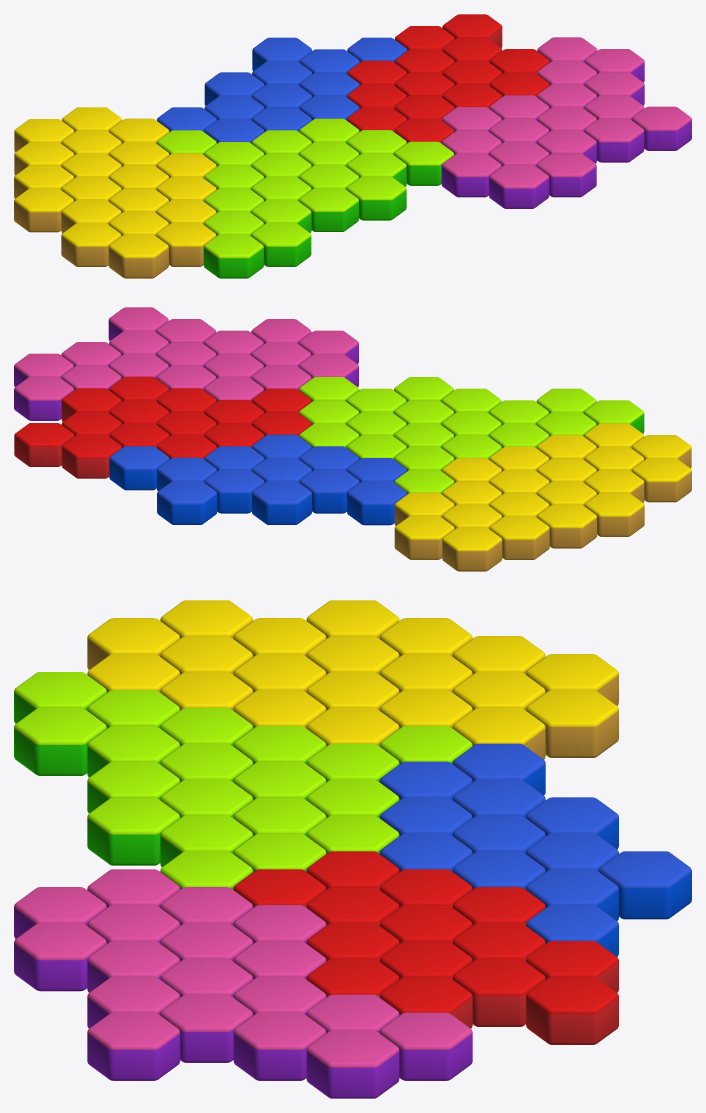
Rendered from Hexagons.fbx.
The picture shows the model from 3 angles, top to bottom: view 1: azimuth 30°, elevation 25°; view 2: azimuth 150°, elevation 25°; view 3: azimuth 270°, elevation 25°; orthographic projection. The views are drawn at different scales.
Parts seen in each view (by area): view 1: Cylinder.121, Cylinder.166, Cylinder.105, Cylinder.099, Cylinder.167, Cylinder.096, Cylinder.106, Cylinder.100, Cylinder.117, Cylinder.160, Cylinder.123, Cylinder.159 (+71 smaller); view 2: Cylinder.001, Cylinder.142, Cylinder.088, Cylinder.087, Cylinder.107, Cylinder.141, Cylinder.117, Cylinder.086, Cylinder.108, Cylinder.146, Cylinder.123, Cylinder.126 (+71 smaller); view 3: Cylinder.095, Cylinder.100, Cylinder.126, Cylinder.086, Cylinder.167, Cylinder.106, Cylinder.160, Cylinder.093, Cylinder.142, Cylinder.107, Cylinder.104, Cylinder.133 (+71 smaller).
Boxes of the visible parts, box(x1,y1,x2,y2) form: Cylinder.121: box(108, 234, 168, 278); Cylinder.166: box(203, 234, 263, 278); Cylinder.105: box(489, 164, 549, 208); Cylinder.099: box(584, 118, 644, 162); Cylinder.167: box(251, 222, 311, 266); Cylinder.096: box(441, 153, 501, 197); Cylinder.106: box(536, 153, 596, 197); Cylinder.100: box(632, 106, 691, 150); Cylinder.117: box(14, 188, 73, 232); Cylinder.160: box(346, 176, 406, 220); Cylinder.123: box(61, 223, 121, 266); Cylinder.159: box(299, 188, 358, 231); Cylinder.001: box(442, 527, 502, 571); Cylinder.142: box(157, 481, 217, 524); Cylinder.088: box(252, 481, 311, 524); Cylinder.087: box(61, 434, 121, 478); Cylinder.107: box(394, 515, 454, 559); Cylinder.141: box(109, 446, 169, 490); Cylinder.117: box(584, 492, 644, 536); Cylinder.086: box(14, 376, 73, 420); Cylinder.108: box(537, 504, 596, 548); Cylinder.146: box(347, 481, 407, 525); Cylinder.123: box(632, 458, 691, 502); Cylinder.126: box(14, 423, 74, 466); Cylinder.095: box(306, 1030, 399, 1098); Cylinder.100: box(87, 1012, 180, 1080); Cylinder.126: box(526, 976, 618, 1044); Cylinder.086: box(379, 1012, 472, 1080); Cylinder.167: box(14, 707, 106, 775); Cylinder.106: box(14, 923, 106, 991); Cylinder.160: box(87, 797, 180, 865); Cylinder.093: box(233, 1012, 326, 1080); Cylinder.142: box(599, 851, 691, 919); Cylinder.107: box(526, 690, 618, 757); Cylinder.104: box(160, 994, 253, 1062); Cylinder.133: box(452, 958, 545, 1026).
Bounding box in the file's own units: 4612 × 168 × 2841.
